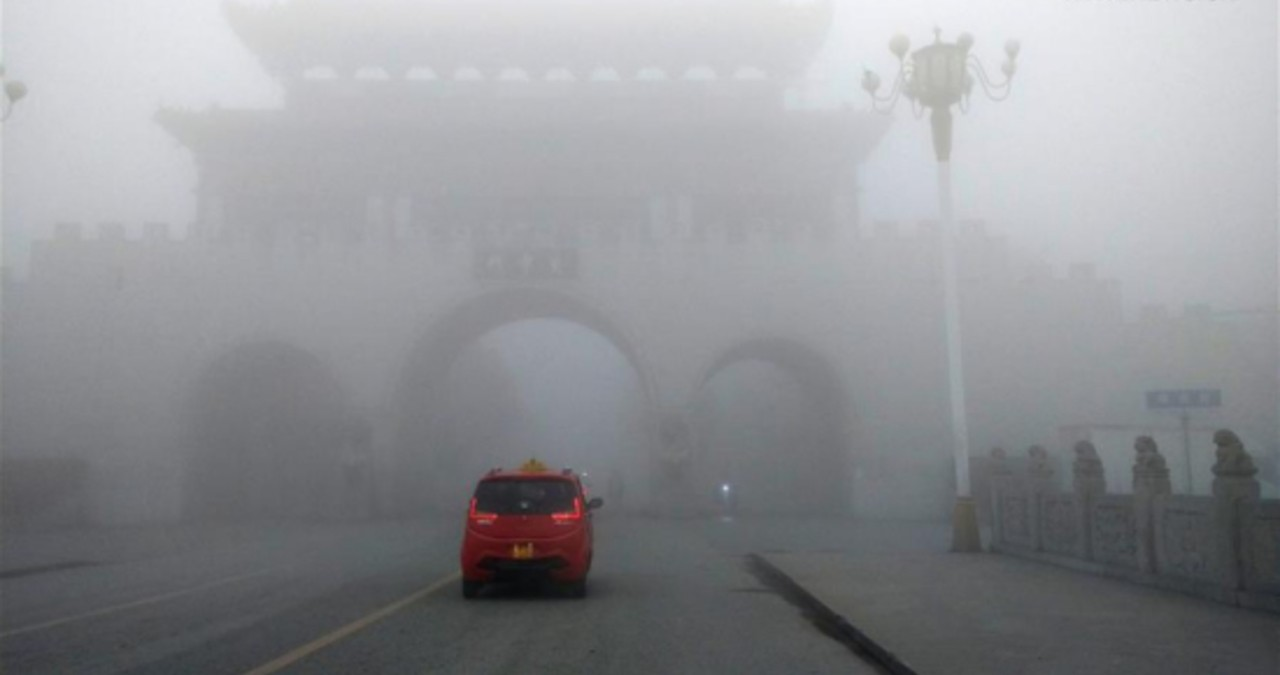car: (462, 467, 601, 598)
